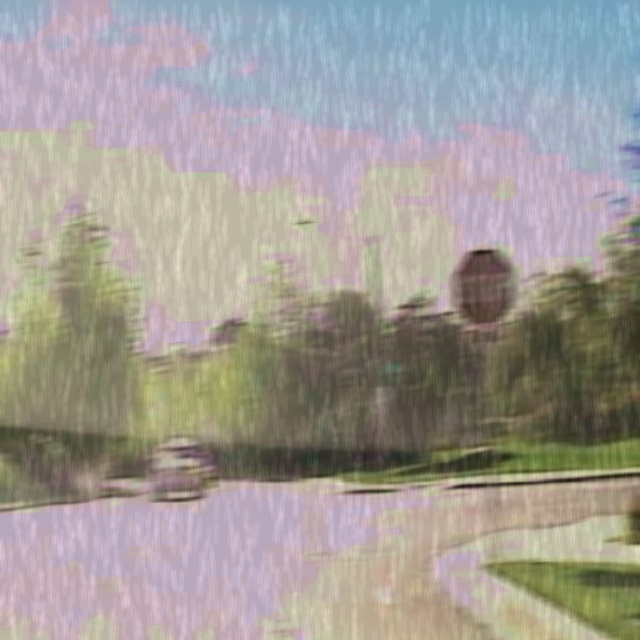speedLimitUrdbl: (372, 384, 388, 414)
stop: (452, 248, 514, 328)
